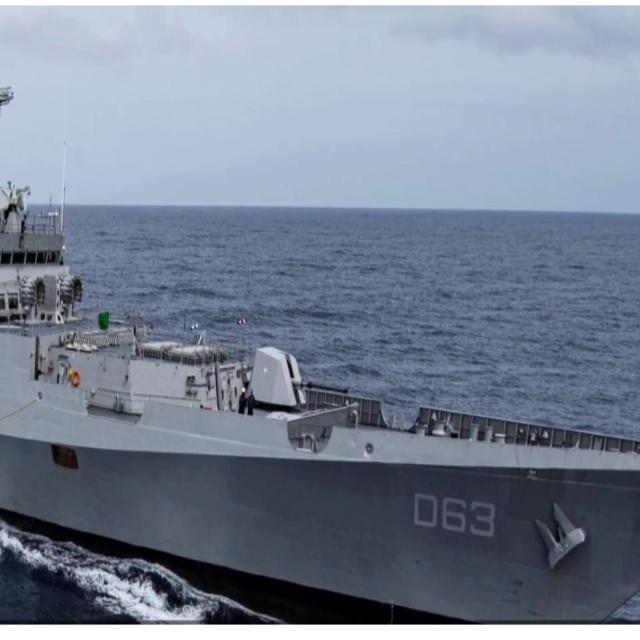OCR: (414, 486, 499, 546)
